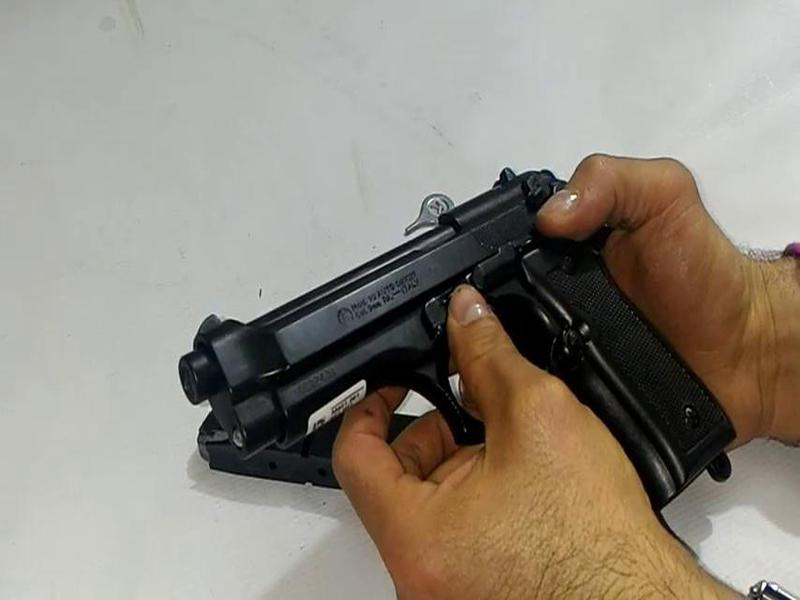Pistola: (175, 147, 747, 543)
